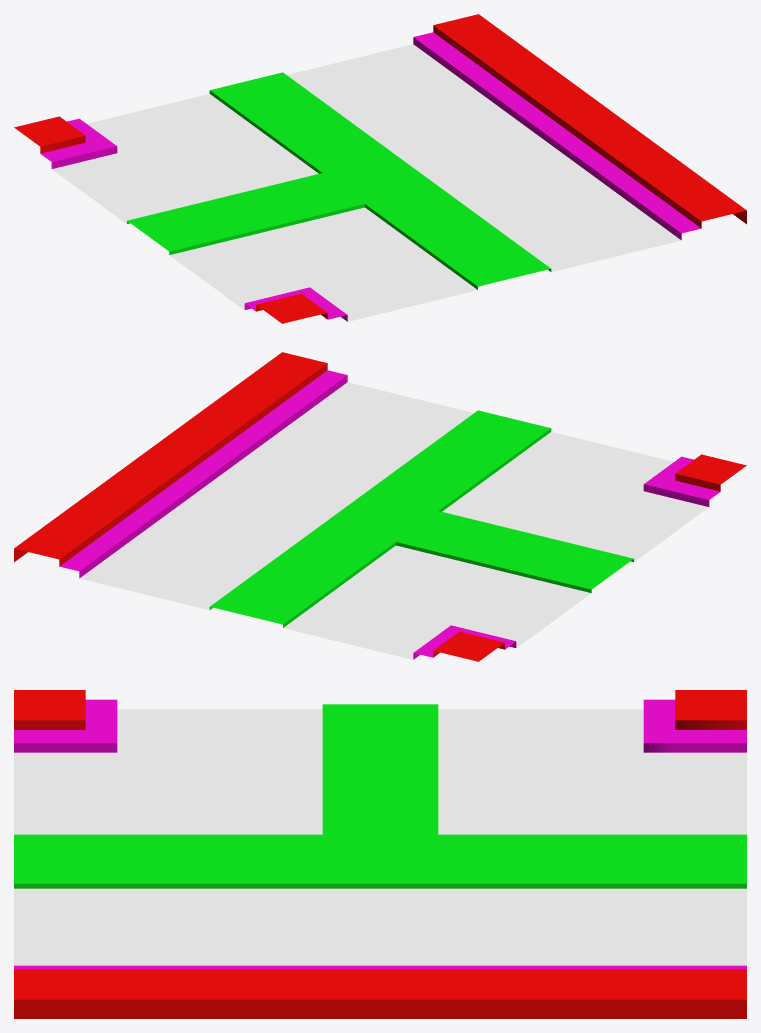
File: Floor-Bifurcation.fbx
3 renders of one model, top to bottom at view 1: azimuth 30°, elevation 25°; view 2: azimuth 150°, elevation 25°; view 3: azimuth 270°, elevation 25°, orthographic. The views are drawn at different scales.
Parts seen in each view (by area): view 1: Bifurcation; view 2: Bifurcation; view 3: Bifurcation.
Part boxes in pixels (x1,y1,x2,y2): Bifurcation: (14,14,746,323); Bifurcation: (14,352,746,661); Bifurcation: (14,690,746,1018).
Size of the model in its own units: 78.74 by 2.28 by 78.74.
